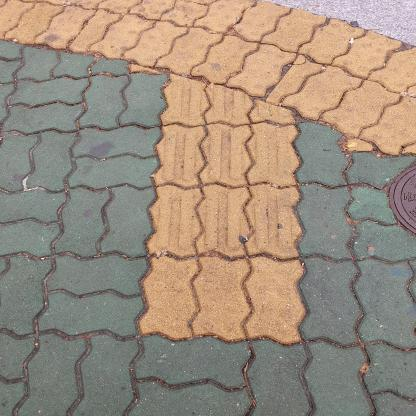podotacti: (0, 0, 415, 352)
